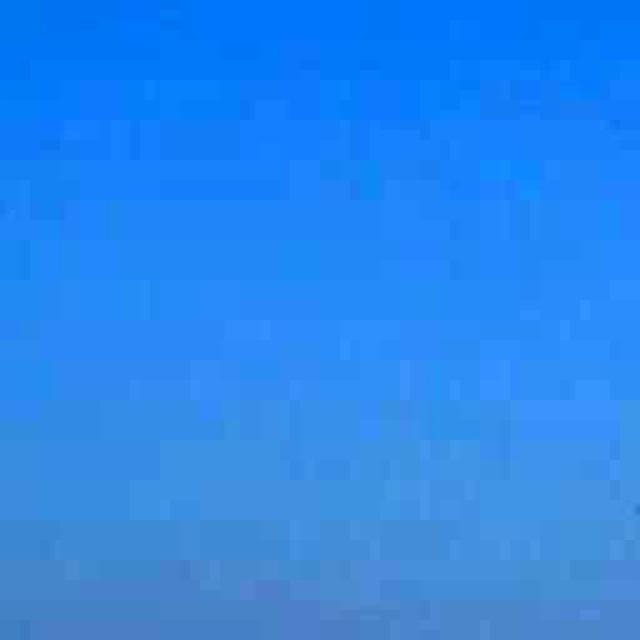bird: (625, 481, 640, 564)
